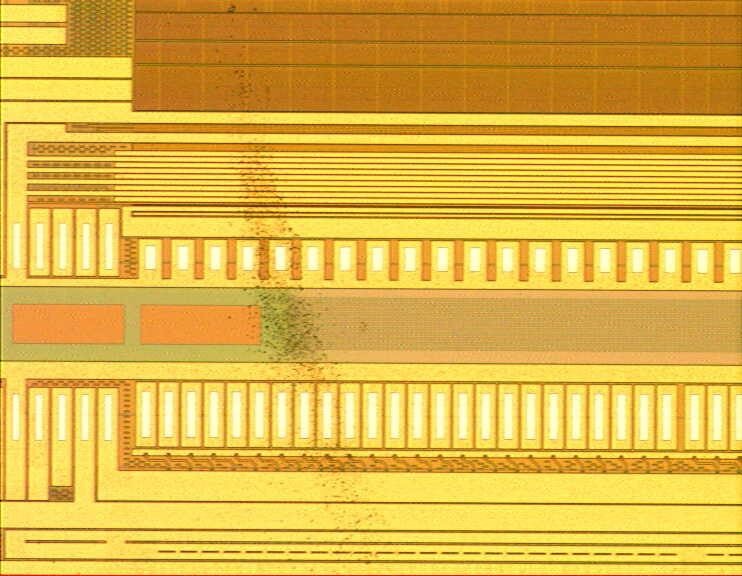PO CONTAMINATION: (212, 1, 411, 576)
